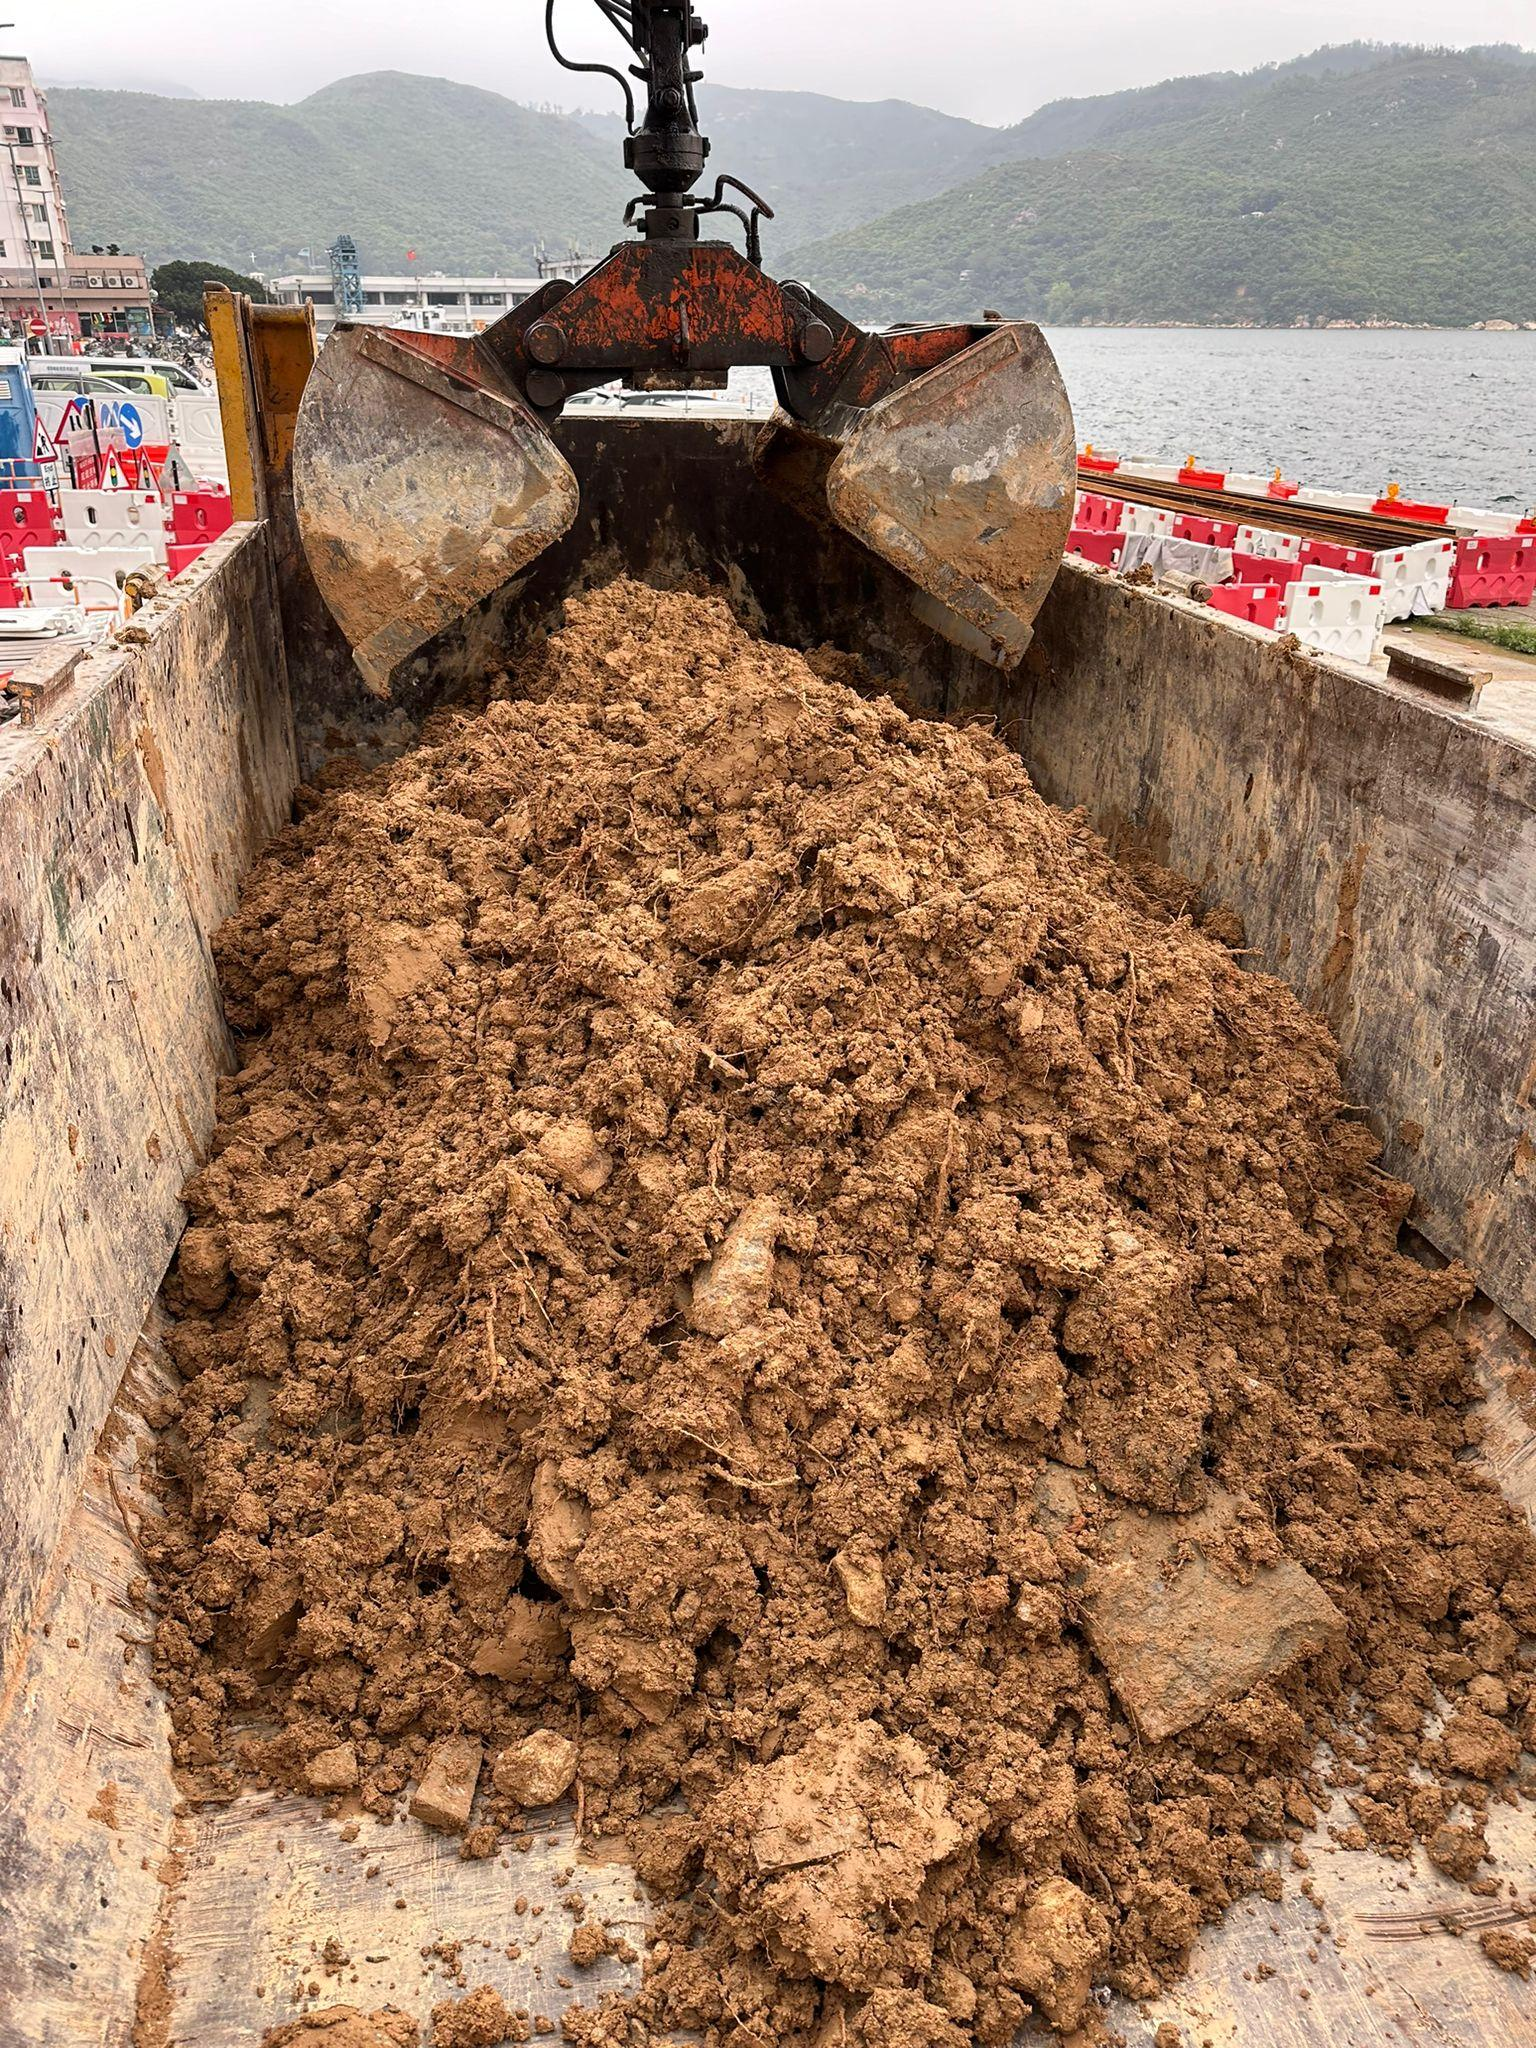wet: (190, 587, 1504, 2037)
